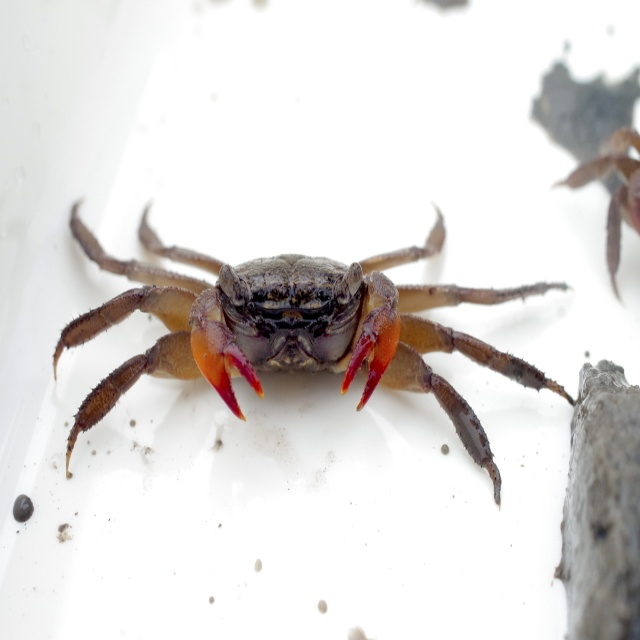Crab: (45, 197, 578, 516)
